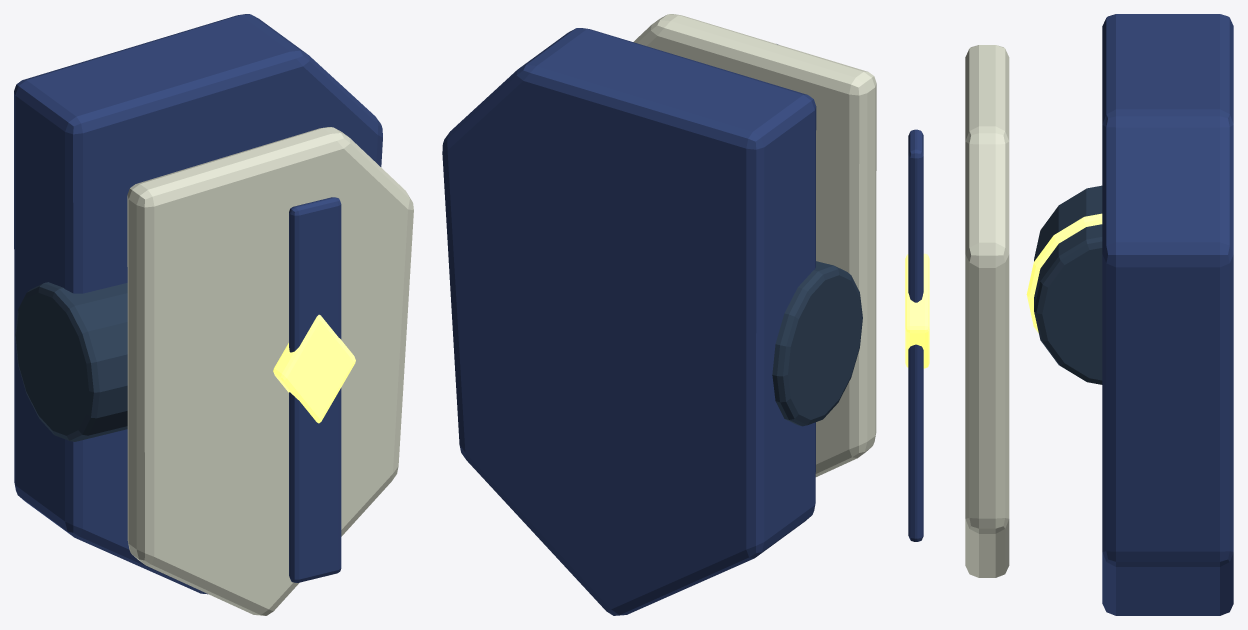
The model's file is gate_shield.glb.
3 views of the same model, side by side, from view 1: azimuth 30°, elevation 25°; view 2: azimuth 150°, elevation 25°; view 3: azimuth 270°, elevation 25° (orthographic). The views are drawn at different scales.
Visible parts, largest first — view 1: ModuleArmor; view 2: ModuleArmor; view 3: ModuleArmor.
Boxes of the visible parts, <box> form: ModuleArmor: <box>14,14,413,615</box>; ModuleArmor: <box>442,14,876,615</box>; ModuleArmor: <box>905,14,1233,615</box>.
Bounding box in the file's own units: 0.7234 × 1.1 × 0.6.
